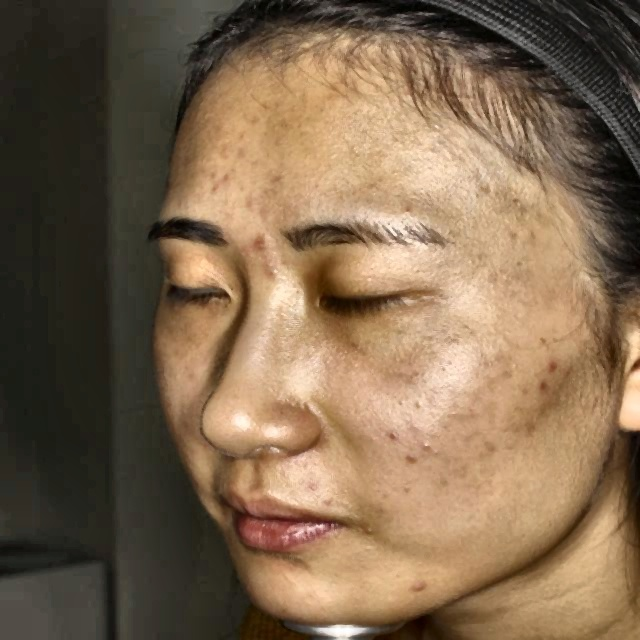comedone: (388, 573, 445, 608), (535, 353, 568, 391), (251, 212, 281, 246)
